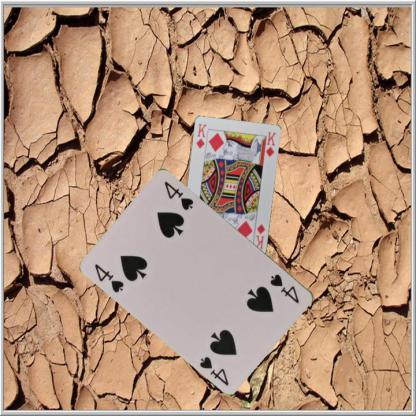4s: (268, 271, 301, 305), (92, 261, 126, 294)
Kd: (194, 121, 208, 150), (252, 222, 266, 250)
